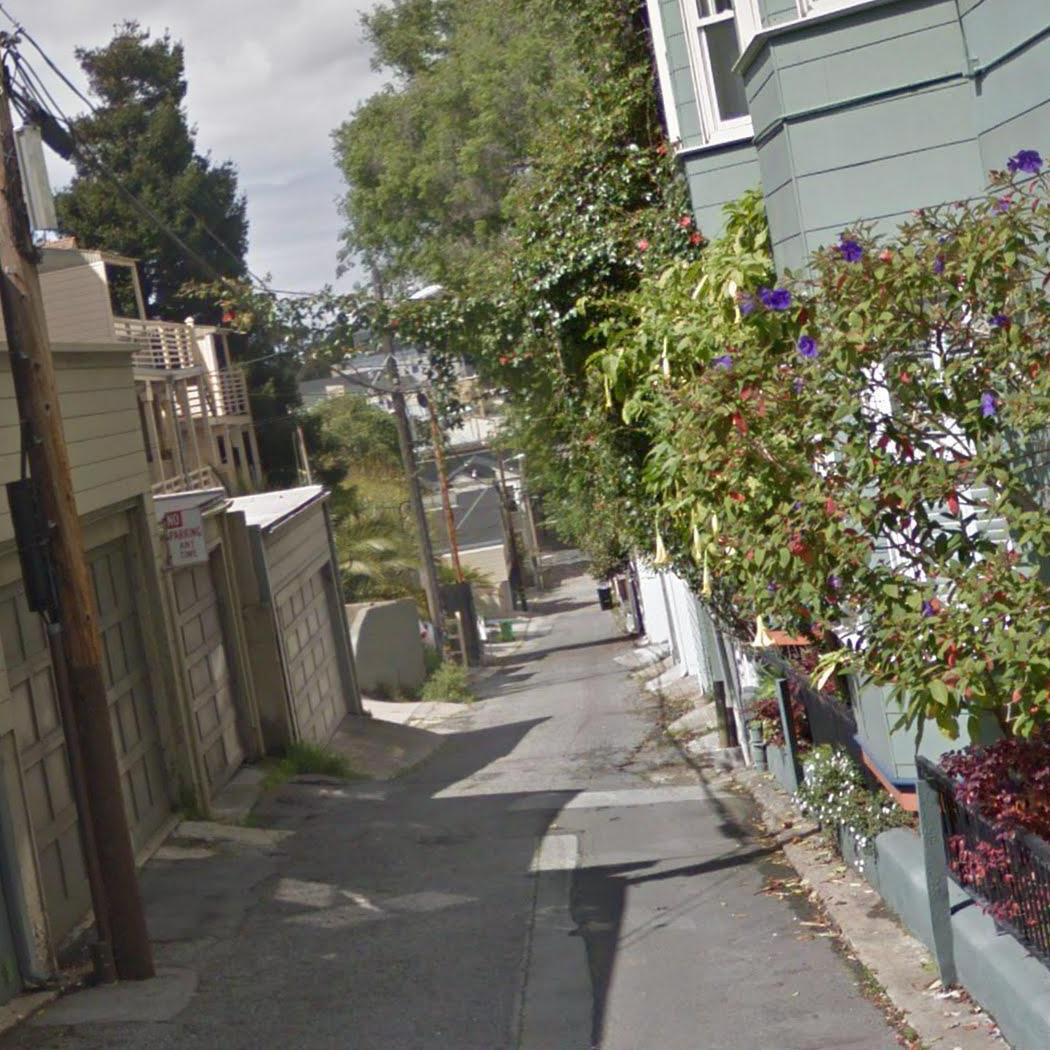No Parking: (162, 505, 211, 569)
